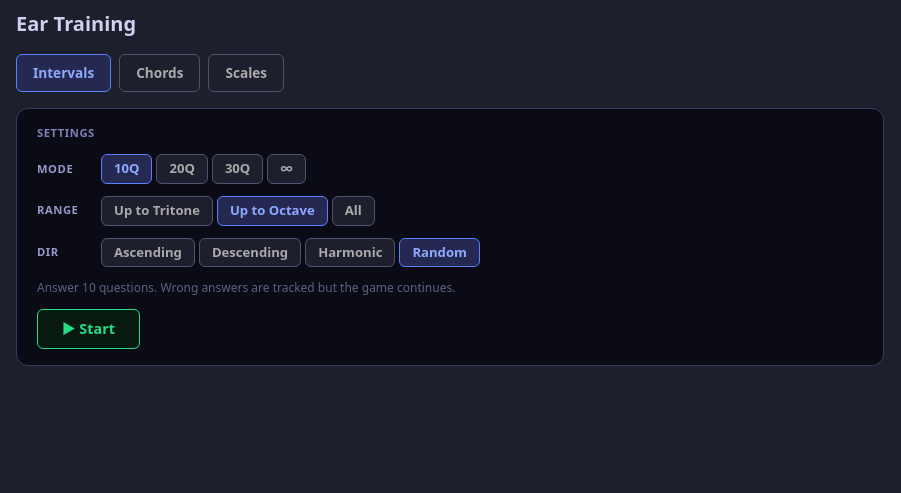
Test case: EarTrainingPage – correct answer flow › shows feedback after clicking an answer button
Click the button "▶ Start" at (88, 329), box [37,309,140,349]
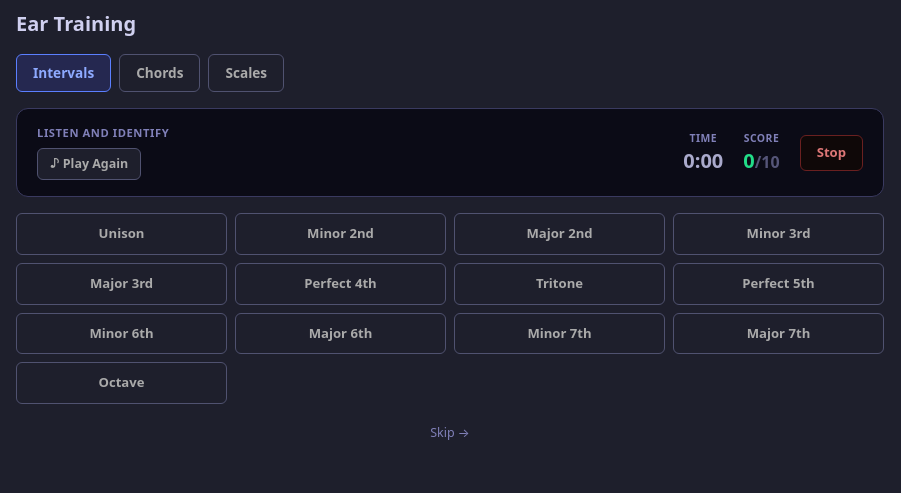
Click the button "Unison" at (122, 234), box [16,213,227,255]
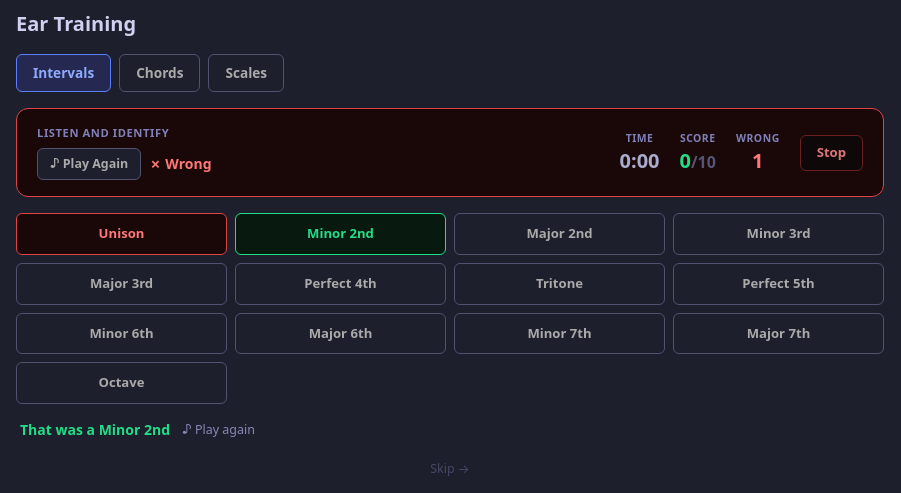
expect the text "✗ Wrong" is shown: met, box [149,154,212,174]
